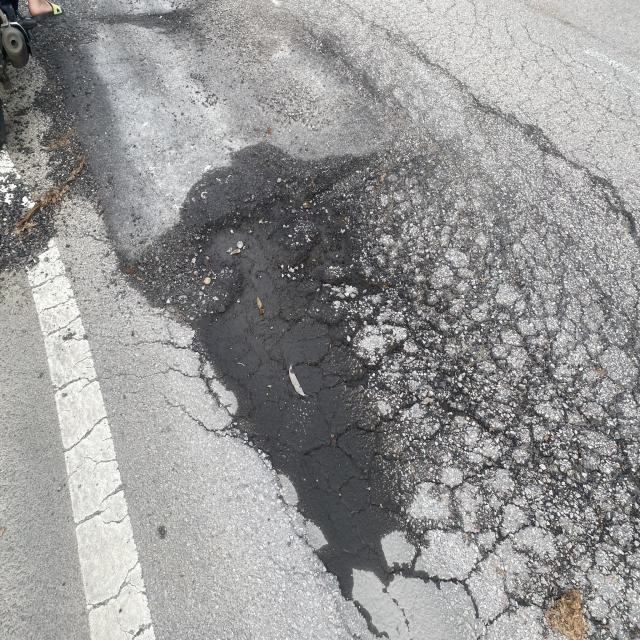pothole: (184, 148, 431, 573)
